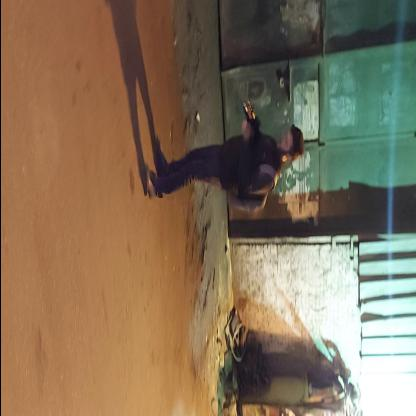long weapon: (233, 94, 265, 154)
